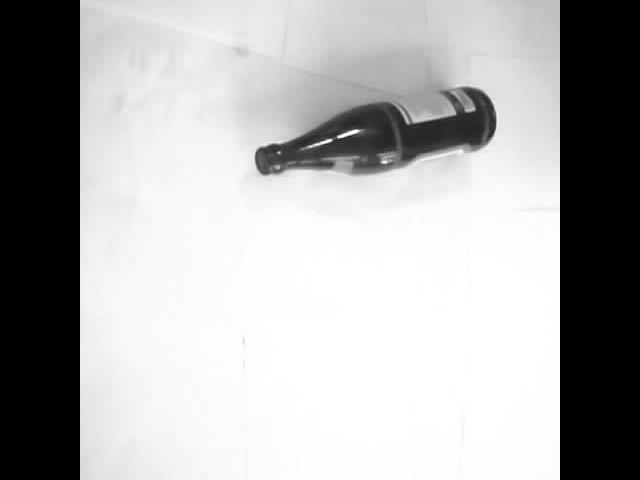Glass: (255, 86, 503, 176)
